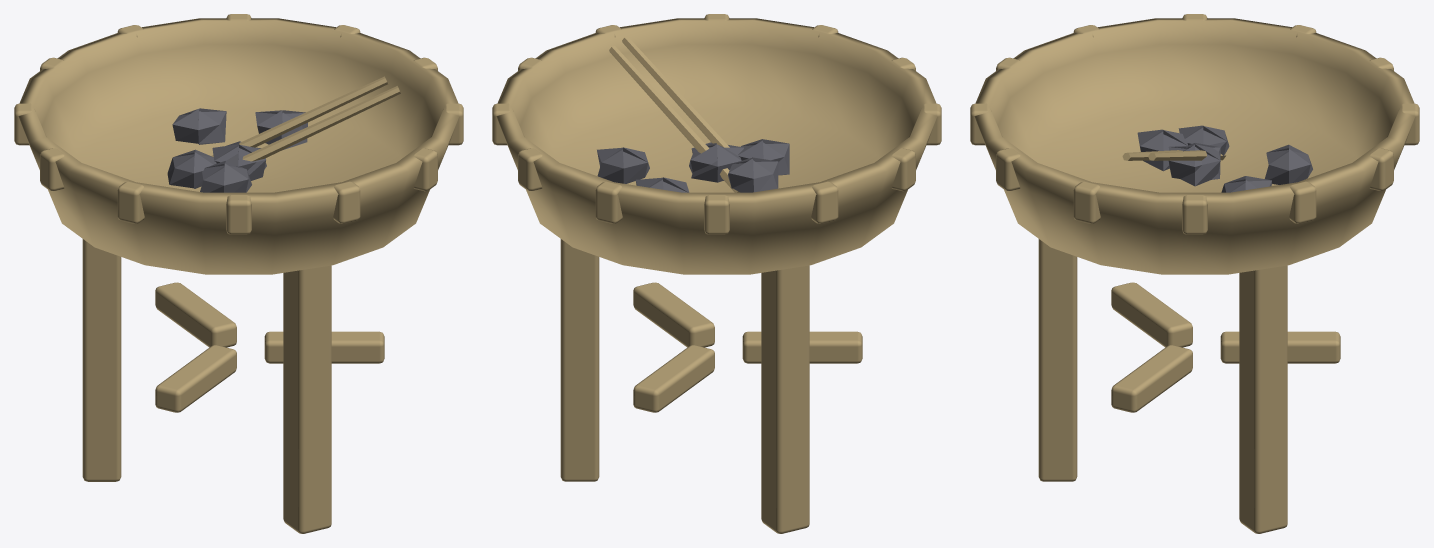
File: brazier.glb
The picture shows the model from 3 angles, left to right: view 1: azimuth 30°, elevation 25°; view 2: azimuth 150°, elevation 25°; view 3: azimuth 270°, elevation 25°; orthographic projection.
Parts seen in each view (by area): view 1: bronze-brazier-stand; view 2: bronze-brazier-stand; view 3: bronze-brazier-stand.
Boxes of the visible parts, <box> form: bronze-brazier-stand: <box>14,14,463,533</box>; bronze-brazier-stand: <box>492,14,941,533</box>; bronze-brazier-stand: <box>970,14,1419,533</box>.
Size of the model in its own units: 1.05 by 0.988 by 1.05.
